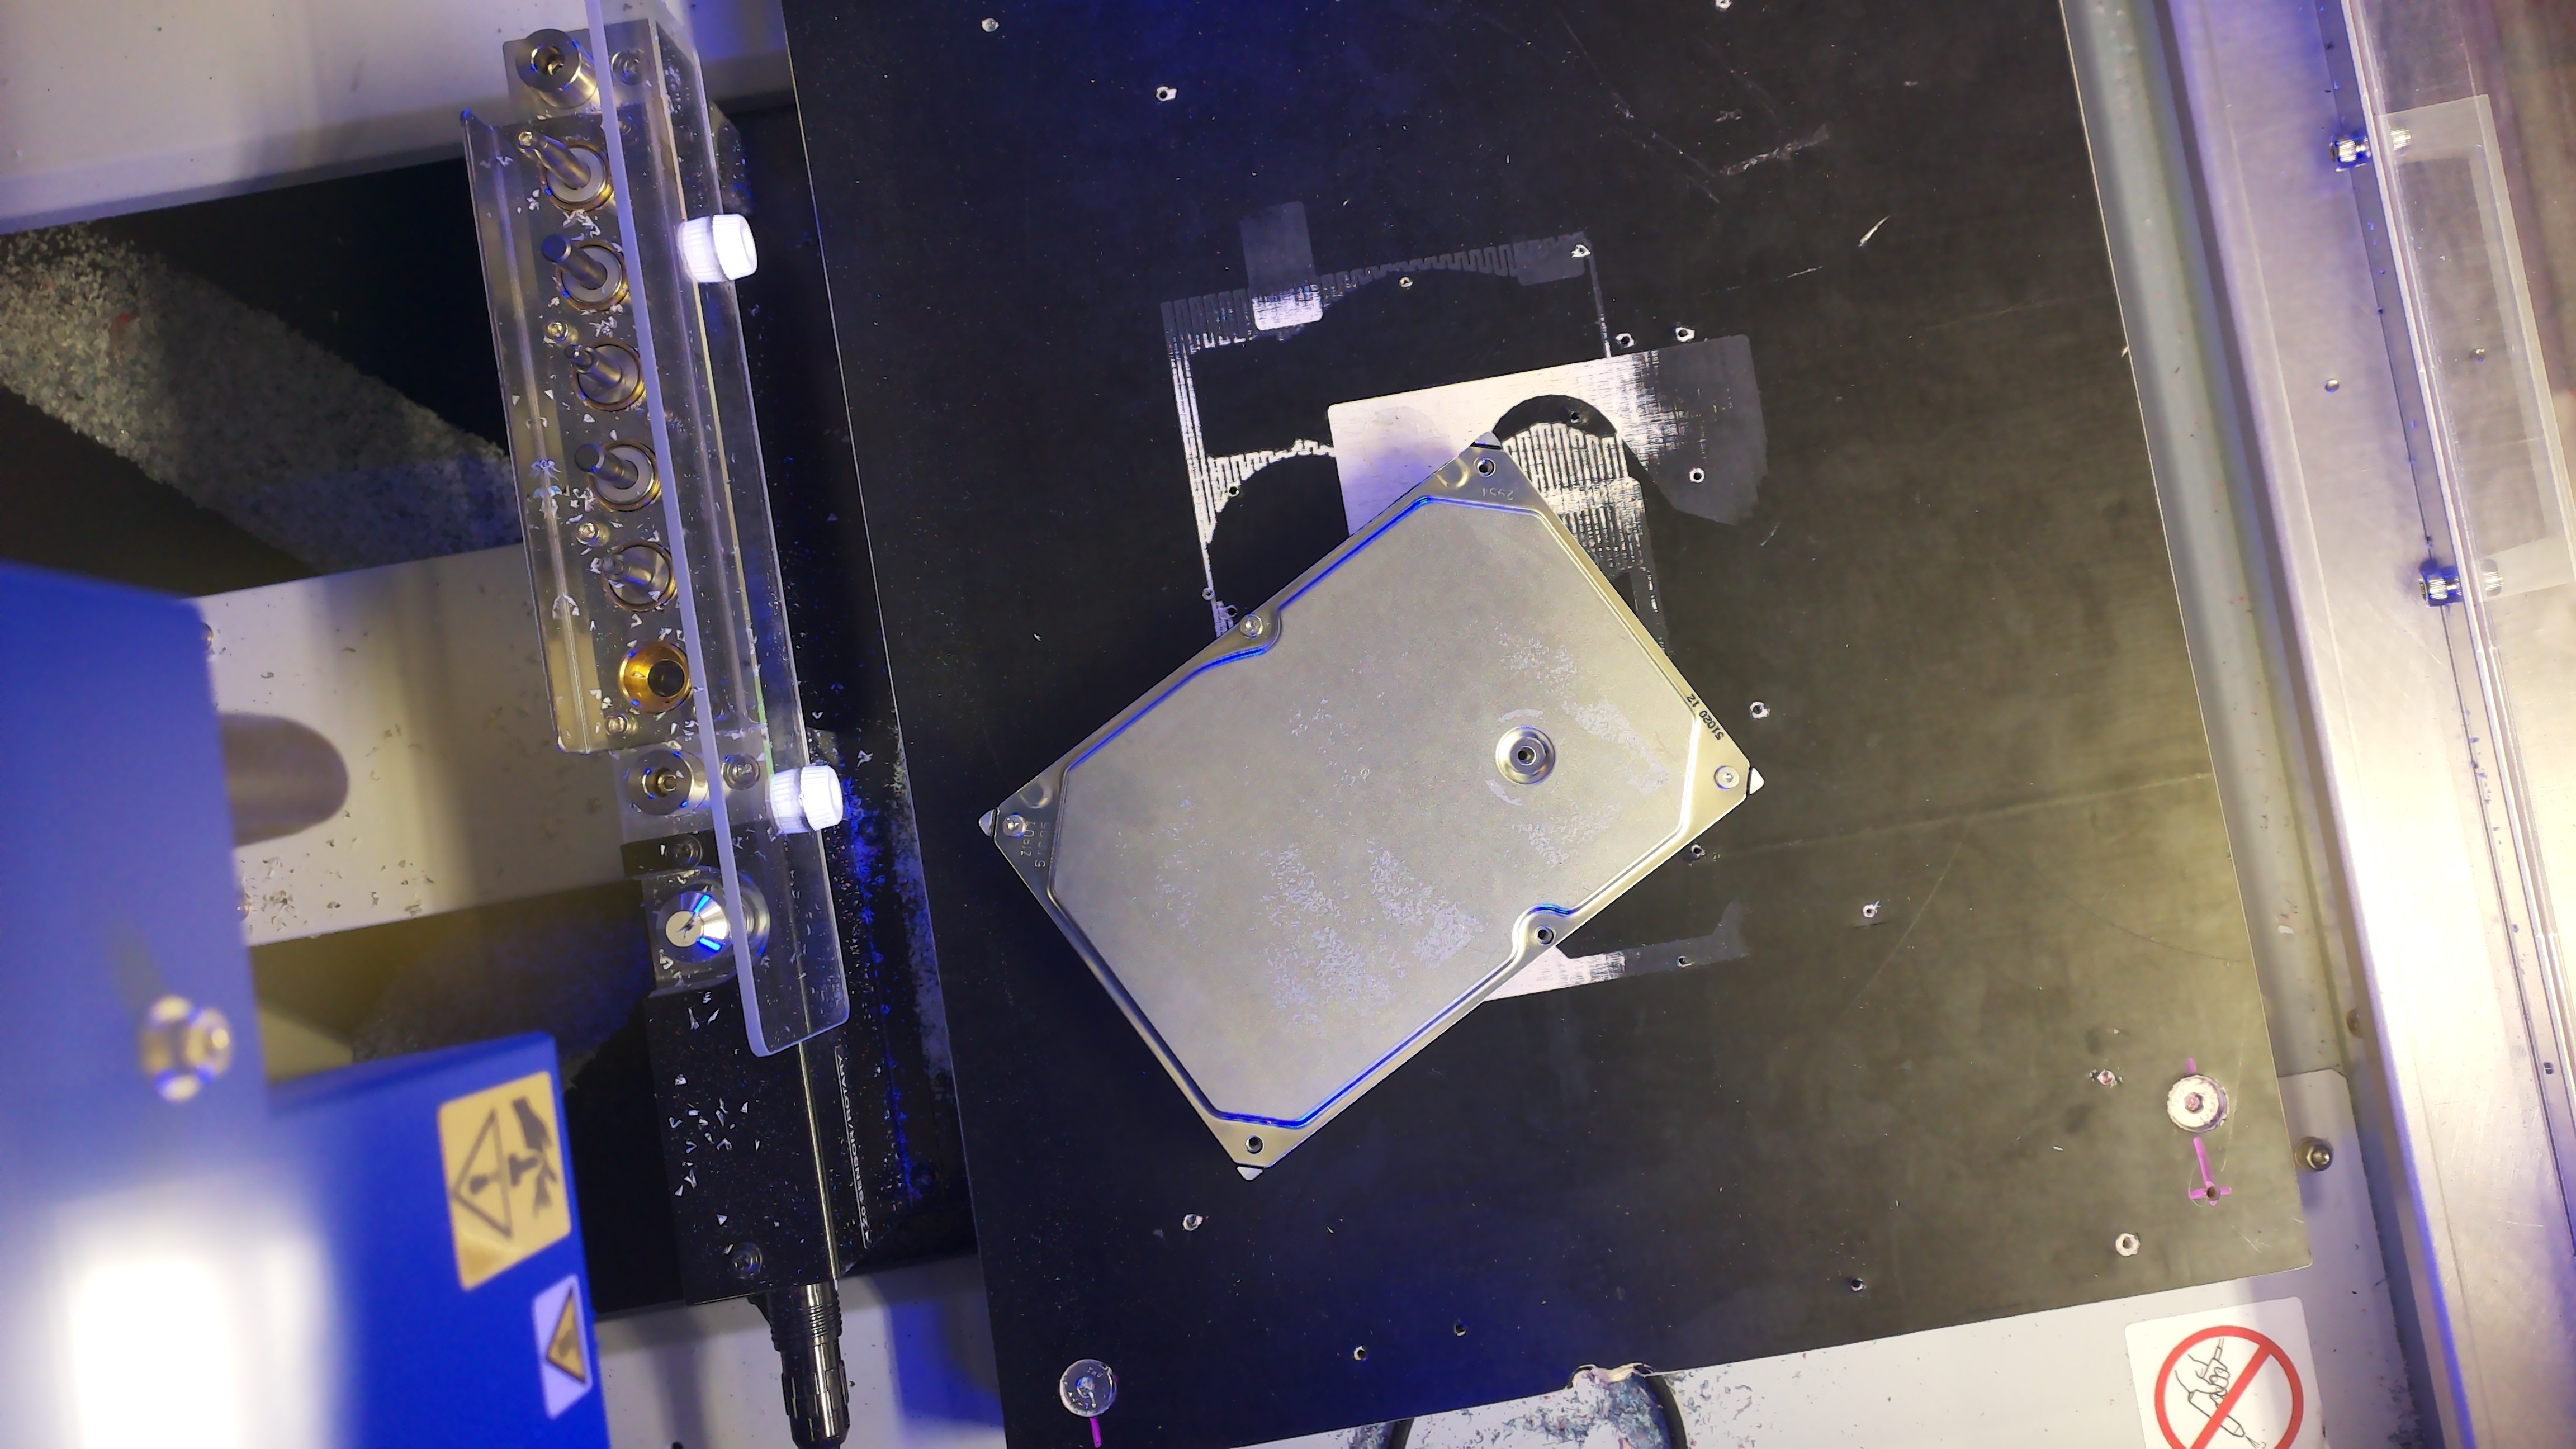Hole: (1516, 745, 1536, 766), (1534, 925, 1555, 945), (1476, 458, 1495, 478), (1246, 1134, 1263, 1155)
Screw: (1001, 814, 1026, 839), (1714, 766, 1739, 789), (1238, 614, 1261, 637)
